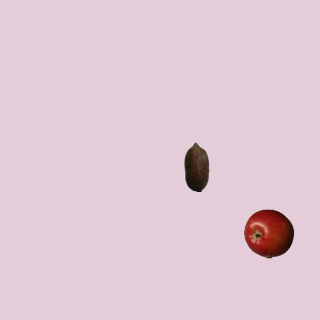Apple Braeburn: (243, 208, 293, 258)
Nut Pecan: (171, 141, 221, 191)
